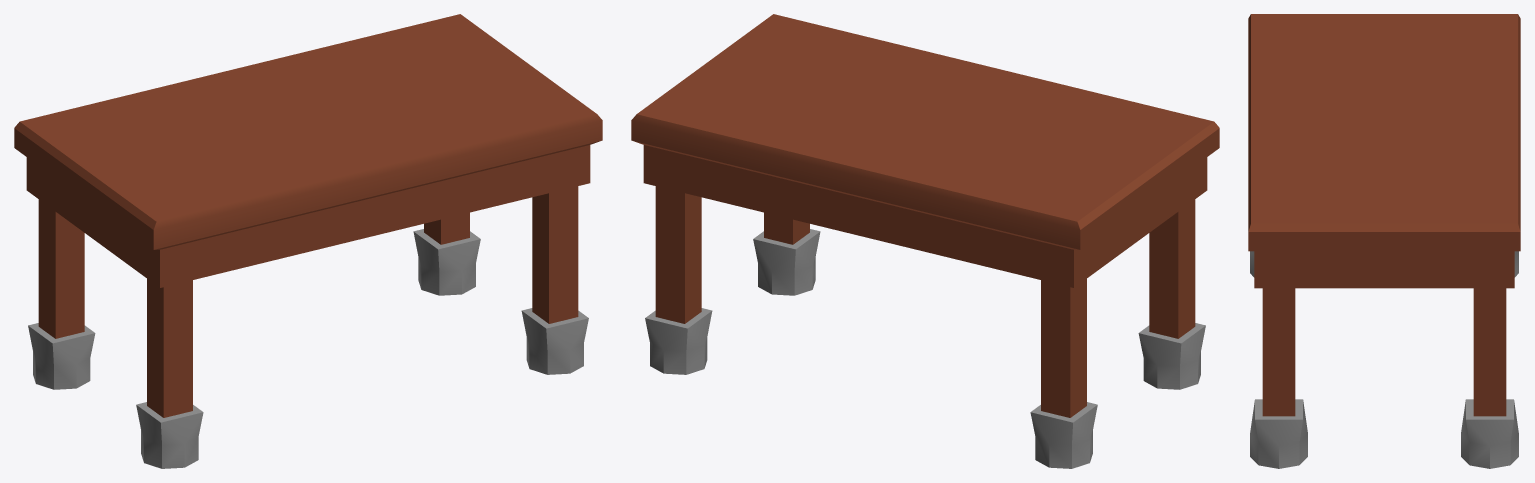
Rendered from table15.fbx.
The picture shows the model from 3 angles, left to right: view 1: azimuth 30°, elevation 25°; view 2: azimuth 150°, elevation 25°; view 3: azimuth 270°, elevation 25°; orthographic projection. The views are drawn at different scales.
Visible parts, largest first — view 1: Table15; view 2: Table15; view 3: Table15.
Boxes of the visible parts, x1,y1,x2,y2 form: Table15: [14, 14, 602, 468]; Table15: [631, 14, 1219, 468]; Table15: [1248, 14, 1520, 468].
Bounding box in the file's own units: 143 × 76.6 × 76.75.
